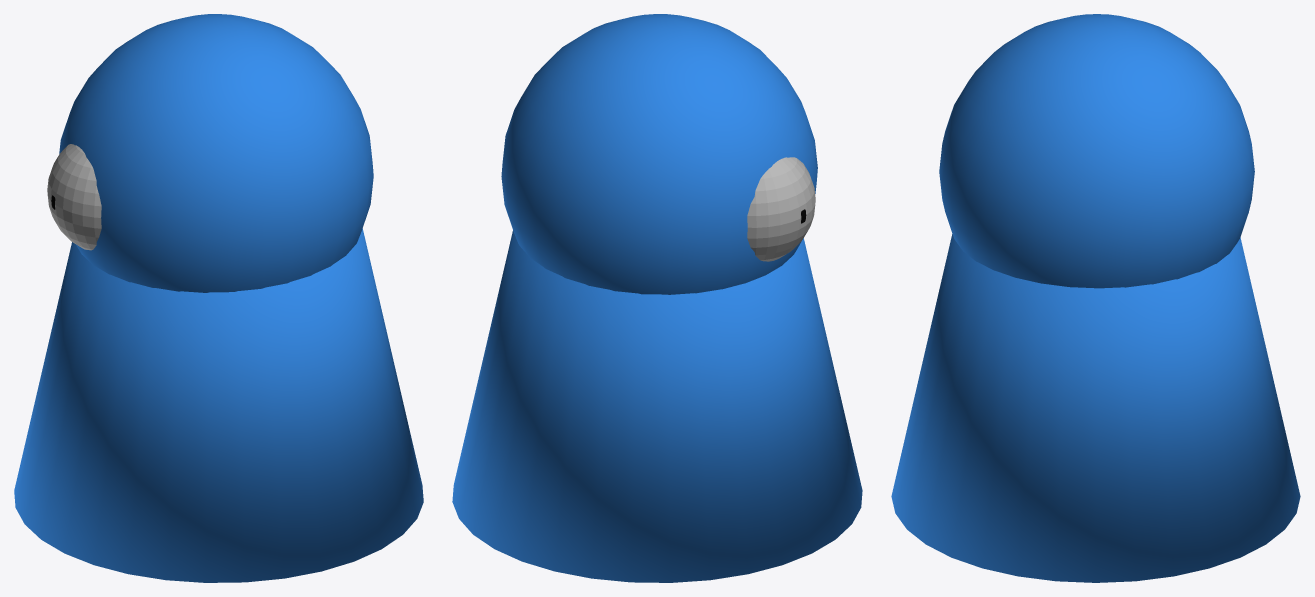
The model's file is pacman.gltf.
3 views of the same model, side by side, from view 1: azimuth 30°, elevation 25°; view 2: azimuth 150°, elevation 25°; view 3: azimuth 270°, elevation 25° (orthographic).
Parts seen in each view (by area): view 1: Head, Eye white; view 2: Head, Eye white; view 3: Head.
Part boxes in pixels (x1,y1,x2,y2): Head: [14, 14, 423, 582]; Eye white: [47, 144, 101, 250]; Head: [452, 14, 862, 582]; Eye white: [747, 157, 815, 261]; Head: [891, 14, 1300, 582].
Size of the model in its own units: 3.01 by 3.79 by 3.01.
